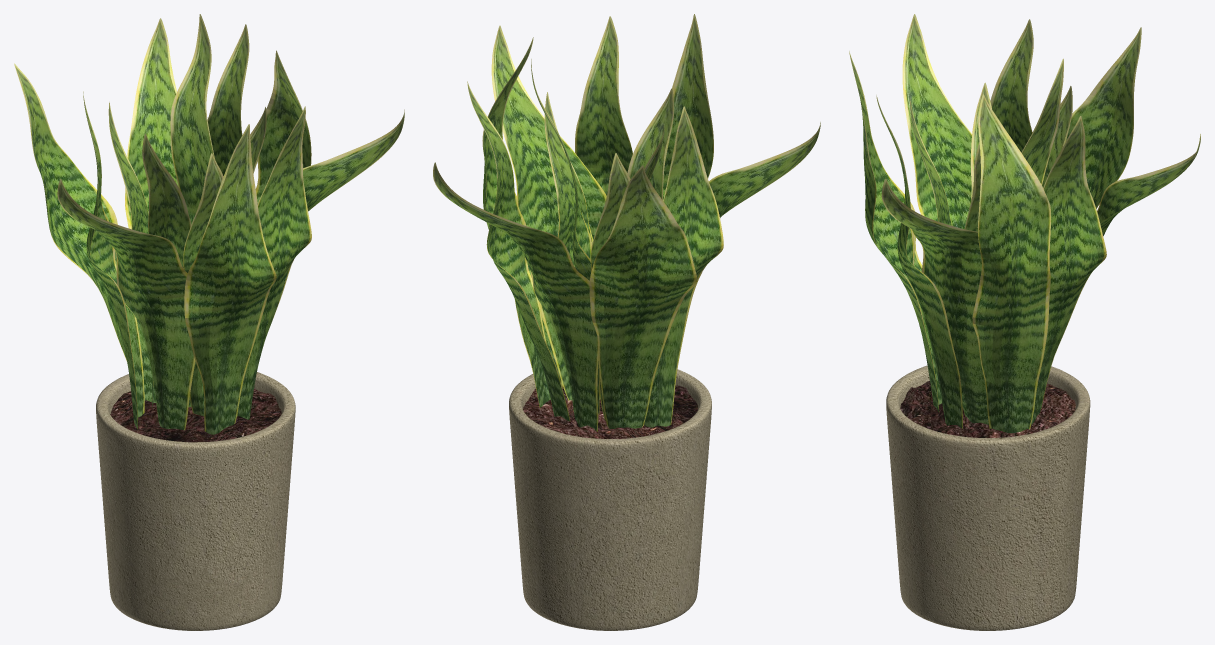
File: snakeplant.glb
3 views of the same model, side by side, from view 1: azimuth 30°, elevation 25°; view 2: azimuth 150°, elevation 25°; view 3: azimuth 270°, elevation 25° (orthographic). The views are drawn at different scales.
Visible parts, largest first — view 1: Plane_SnakePlant_leaf_0, Cylinder_Flowerpot_0, Cylinder.001_Soil_0; view 2: Plane_SnakePlant_leaf_0, Cylinder_Flowerpot_0, Cylinder.001_Soil_0; view 3: Plane_SnakePlant_leaf_0, Cylinder_Flowerpot_0, Cylinder.001_Soil_0.
Boxes of the visible parts, box(x1,y1,x2,y2) form: Plane_SnakePlant_leaf_0: box(14, 14, 404, 434); Cylinder_Flowerpot_0: box(96, 372, 295, 630); Cylinder.001_Soil_0: box(110, 388, 281, 442); Plane_SnakePlant_leaf_0: box(433, 14, 820, 431); Cylinder_Flowerpot_0: box(509, 369, 711, 630); Cylinder.001_Soil_0: box(523, 385, 697, 438); Plane_SnakePlant_leaf_0: box(849, 14, 1200, 433); Cylinder_Flowerpot_0: box(886, 365, 1090, 630); Cylinder.001_Soil_0: box(900, 380, 1075, 437).
Size of the model in its own units: 0.9092 by 1.43 by 0.8168.
Materials: 3 (3 with a texture image).
